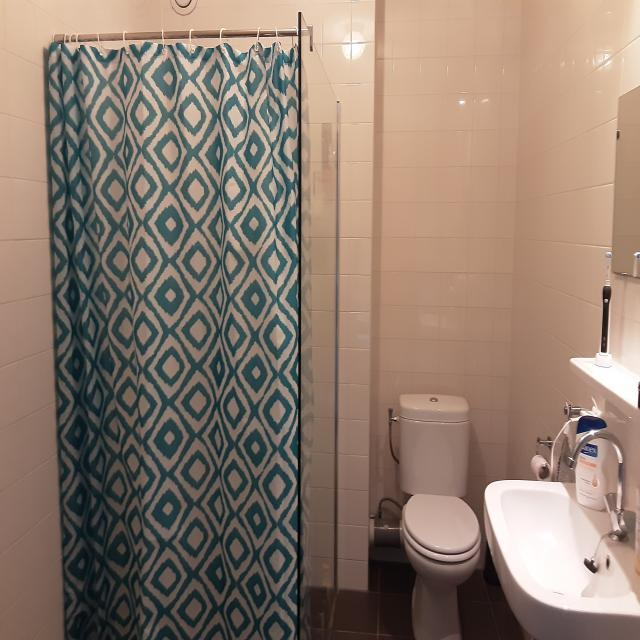douche: (47, 12, 340, 640)
toilet: (371, 391, 482, 640)
wastafel: (483, 429, 640, 640)
